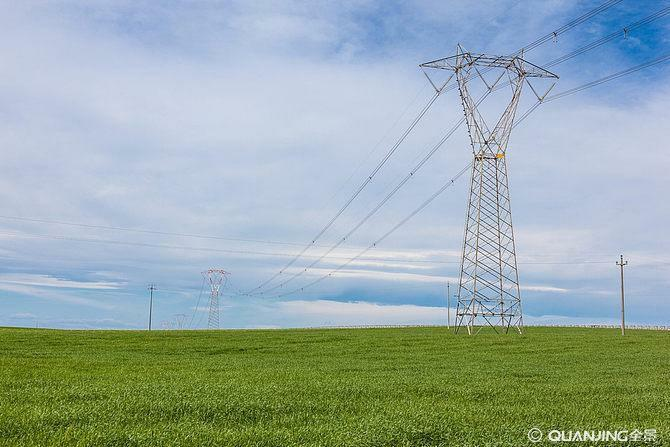power_tower: (417, 38, 561, 339), (199, 263, 234, 330)
